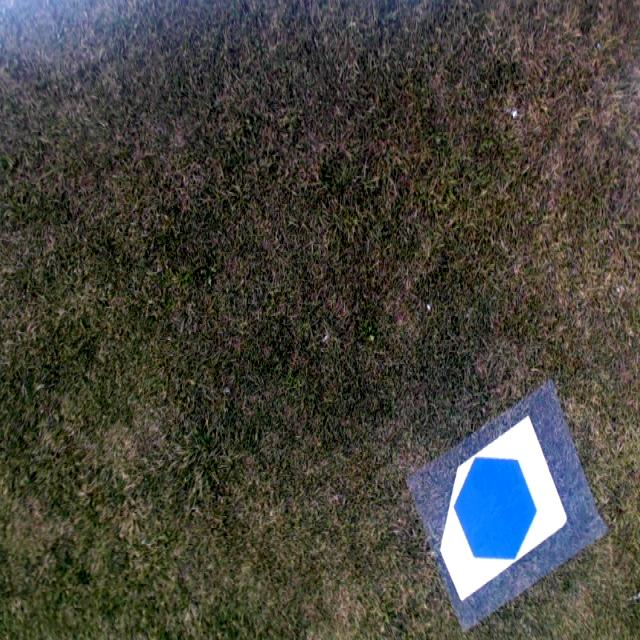blue_hexagon: (453, 456, 537, 558)
